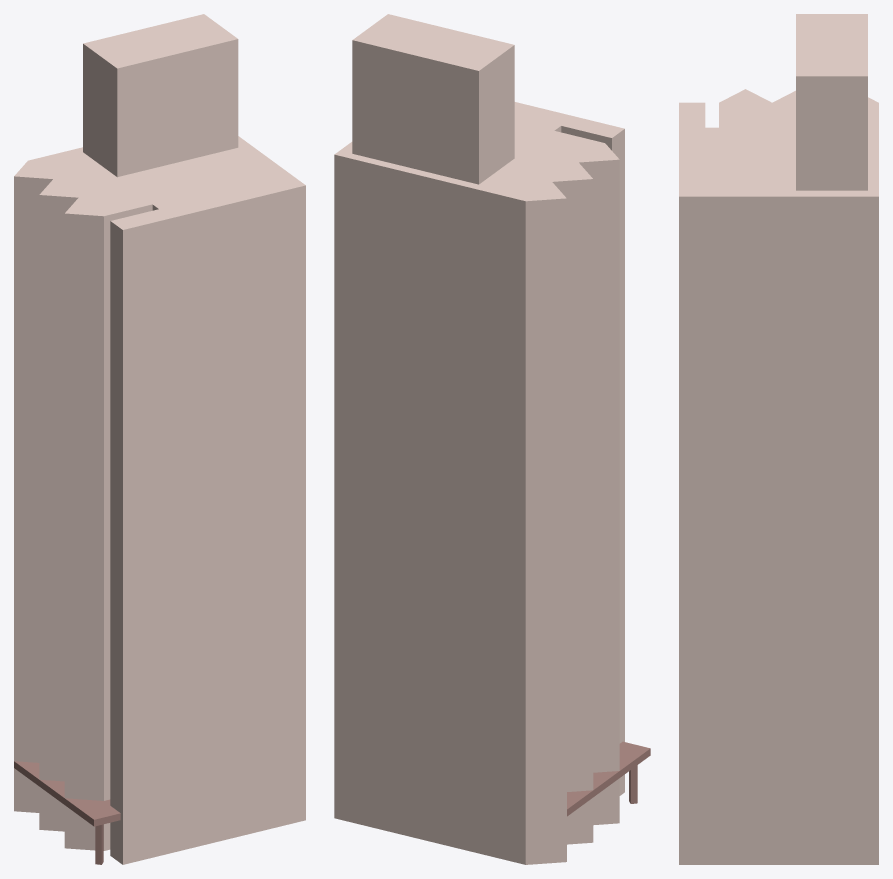
Rendered from Edificio020.FBX.
3 views of the same model, side by side, from view 1: azimuth 30°, elevation 25°; view 2: azimuth 150°, elevation 25°; view 3: azimuth 270°, elevation 25° (orthographic). The views are drawn at different scales.
Visible parts, largest first — view 1: Edificio003; view 2: Edificio003; view 3: Edificio003.
Boxes of the visible parts, x1=… form: Edificio003: x1=14, y1=14, x2=305, y2=864; Edificio003: x1=334, y1=14, x2=650, y2=864; Edificio003: x1=679, y1=14, x2=878, y2=864.
Size of the model in its own units: 759 by 2570 by 594.
